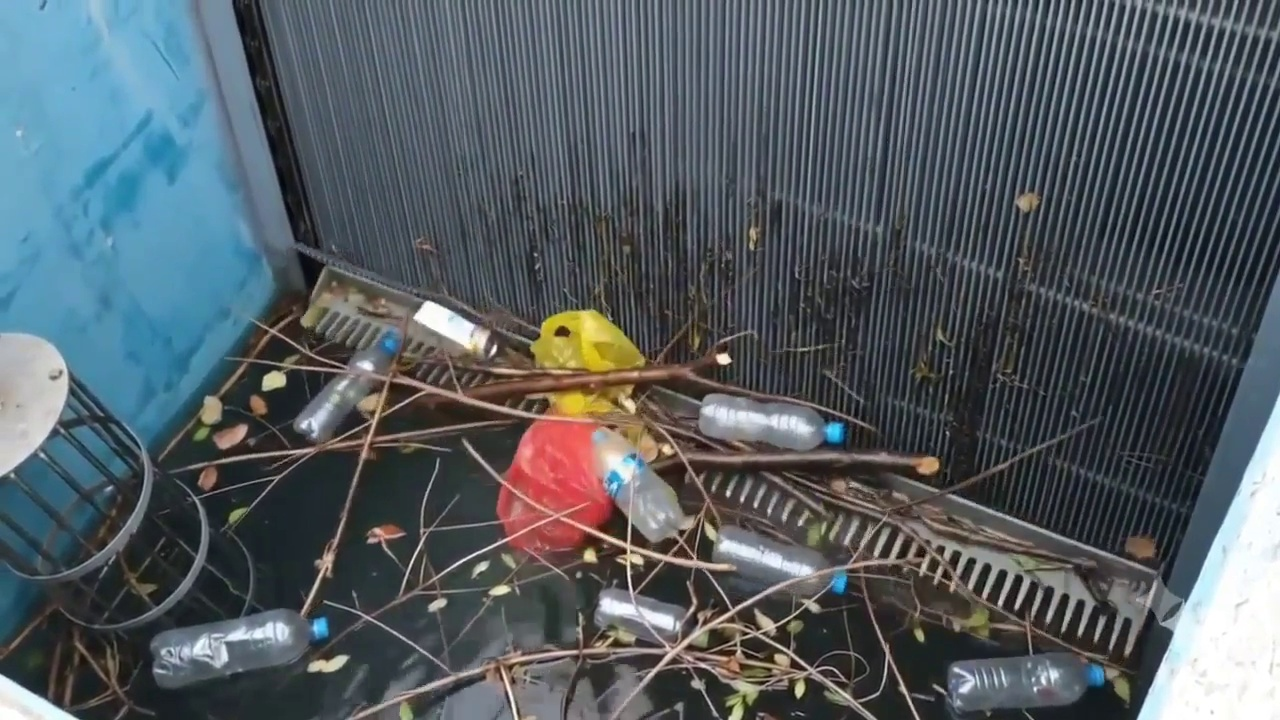debris: (332, 311, 908, 609), (150, 609, 329, 688), (712, 525, 851, 598), (948, 653, 1106, 711), (595, 588, 691, 642), (295, 376, 373, 442), (415, 301, 493, 353), (355, 336, 402, 369), (212, 423, 249, 451), (307, 654, 350, 674), (1124, 536, 1157, 561), (366, 523, 405, 543), (199, 396, 222, 425), (260, 370, 287, 392), (1015, 191, 1040, 213), (197, 465, 217, 491), (227, 507, 249, 527), (248, 394, 268, 416), (488, 584, 511, 596)
